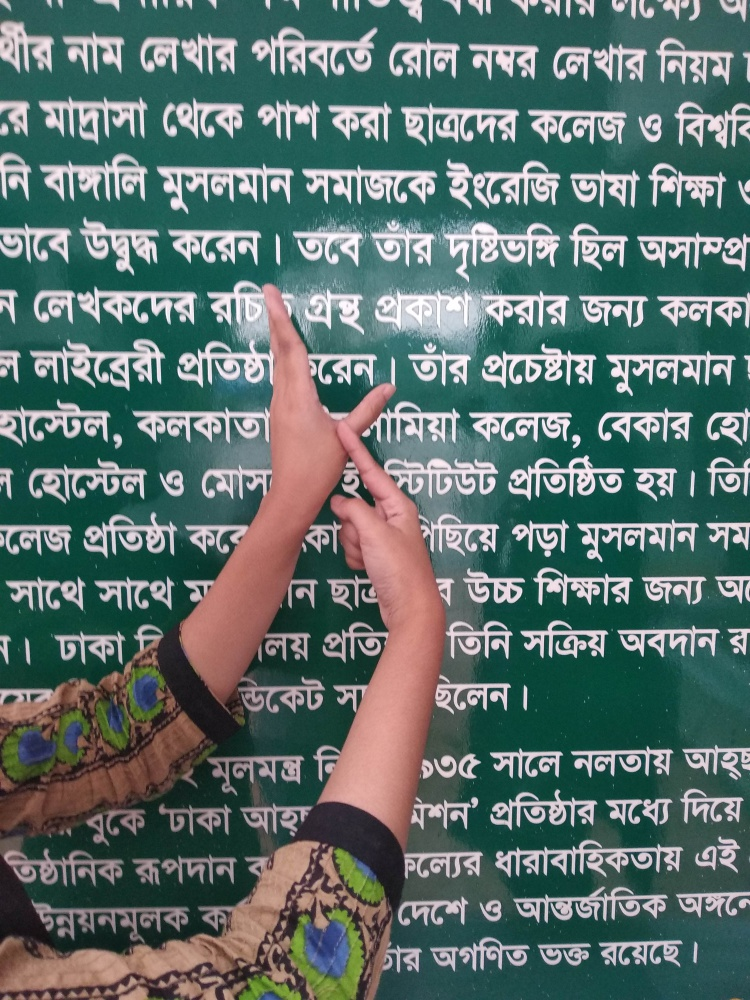dh: (236, 284, 441, 639)
